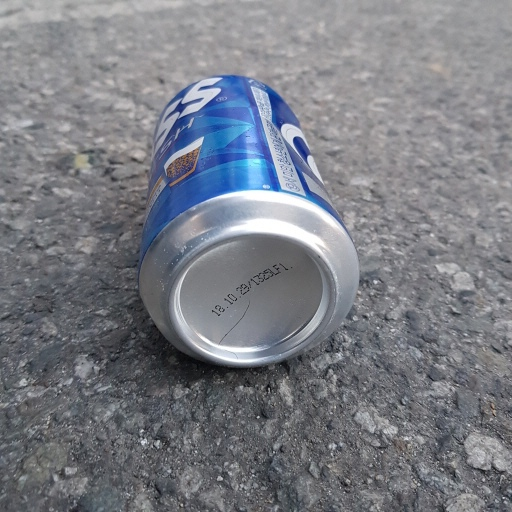Metal_0: (135, 73, 361, 364)
